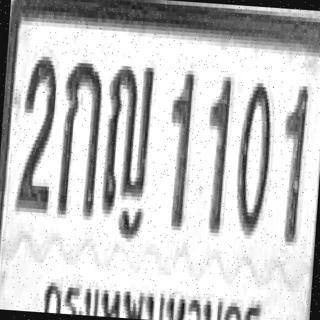A01: (56, 58, 104, 216)
A13: (101, 61, 156, 216)
N00: (233, 78, 275, 236)
N01: (162, 68, 195, 228), (201, 72, 232, 233), (277, 81, 308, 242)
N02: (16, 53, 59, 211)
